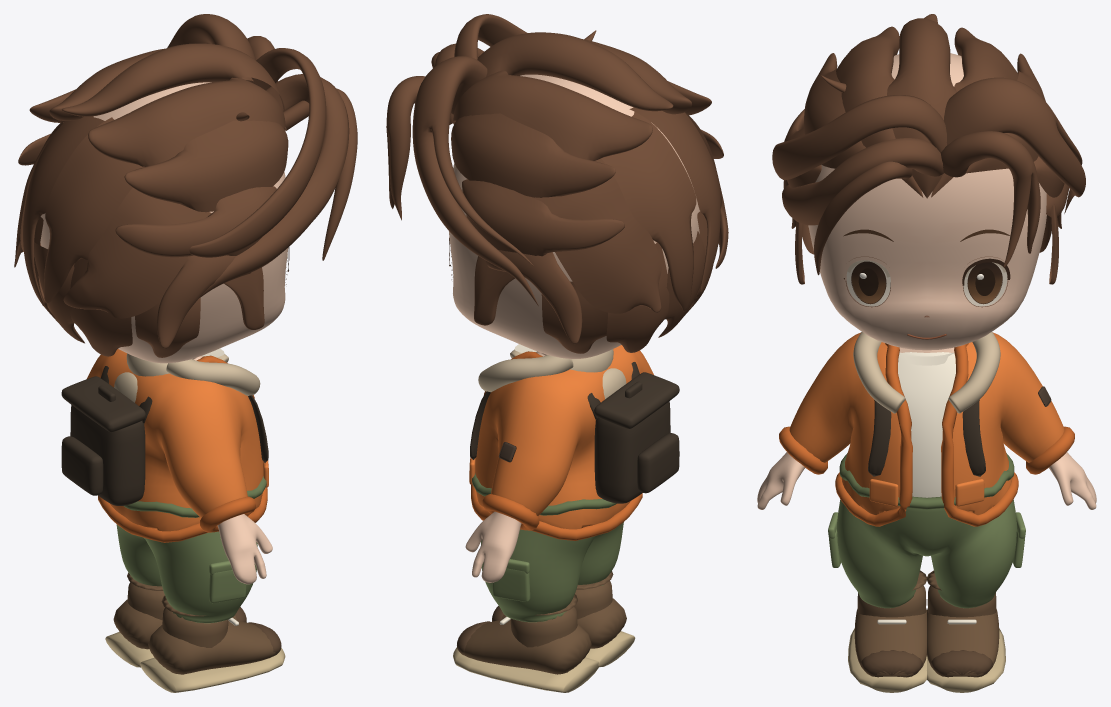
Rendered from eye_corner_before.glb.
3 views of the same model, side by side, from view 1: azimuth 30°, elevation 25°; view 2: azimuth 150°, elevation 25°; view 3: azimuth 270°, elevation 25° (orthographic).
Parts seen in each view (by area): view 1: SM_Hair_Base_03_L, SM_Hair_Bangs_08_L, jacket, backpack, Chibi_Base_Mesh2, boots, pants, soles, C_hood_front, jacket_trim, cargo_pockets, hood (+2 smaller); view 2: SM_Hair_Base_03_L, jacket, SM_Hair_Bangs_08_L, backpack, Chibi_Base_Mesh2, boots, pants, soles, C_hood_front, jacket_trim, cargo_pockets, hood (+2 smaller); view 3: Chibi_Base_Mesh2, SM_Hair_Bangs_08_L, SM_Hair_Base_03_L, jacket, pants, boots, jacket_trim, inner_hoodie, C_hood_front, soles, boot_toecaps, backpack (+7 smaller).
Part boxes in pixels (left/top/right/bottom): SM_Hair_Base_03_L: left=14, top=43, right=288, bottom=357; SM_Hair_Bangs_08_L: left=167, top=14, right=357, bottom=297; jacket: left=87, top=349, right=263, bottom=531; backpack: left=61, top=366, right=268, bottom=505; Chibi_Base_Mesh2: left=40, top=82, right=288, bottom=584; boots: left=113, top=572, right=279, bottom=674; pants: left=116, top=524, right=257, bottom=623; soles: left=105, top=632, right=285, bottom=692; C_hood_front: left=166, top=354, right=260, bottom=395; jacket_trim: left=98, top=355, right=267, bottom=542; cargo_pockets: left=209, top=560, right=246, bottom=603; hood: left=114, top=353, right=169, bottom=402; SM_Hair_Base_03_L: left=451, top=32, right=728, bottom=353; jacket: left=475, top=345, right=653, bottom=529; SM_Hair_Bangs_08_L: left=386, top=14, right=538, bottom=305; backpack: left=470, top=362, right=679, bottom=503; Chibi_Base_Mesh2: left=449, top=74, right=699, bottom=582; boots: left=458, top=571, right=626, bottom=674; pants: left=481, top=522, right=623, bottom=622; soles: left=453, top=631, right=635, bottom=692; C_hood_front: left=478, top=349, right=573, bottom=392; jacket_trim: left=471, top=351, right=642, bottom=540; cargo_pockets: left=492, top=559, right=530, bottom=601; hood: left=570, top=349, right=626, bottom=399; Chibi_Base_Mesh2: left=757, top=53, right=1096, bottom=509; SM_Hair_Bangs_08_L: left=772, top=77, right=1085, bottom=275; SM_Hair_Base_03_L: left=783, top=14, right=1069, bottom=284; jacket: left=789, top=332, right=1064, bottom=514; pants: left=837, top=499, right=1016, bottom=608; boots: left=854, top=570, right=999, bottom=677; jacket_trim: left=835, top=343, right=1018, bottom=526; inner_hoodie: left=898, top=352, right=955, bottom=497; C_hood_front: left=853, top=332, right=1000, bottom=413; soles: left=848, top=628, right=1005, bottom=692; boot_toecaps: left=861, top=650, right=992, bottom=676; backpack: left=868, top=400, right=985, bottom=476.
Bounding box in the file's own units: 0.5628 × 1.16 × 0.5713.
Materials: 25 (2 with a texture image).
